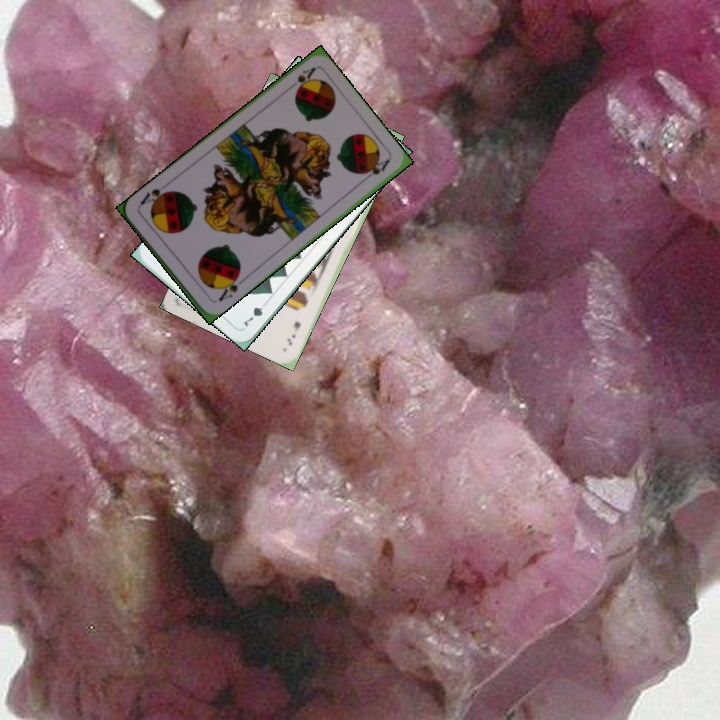E7: (283, 317, 303, 348)
G7: (240, 296, 271, 330)
SA: (283, 63, 318, 94), (214, 271, 246, 304)
